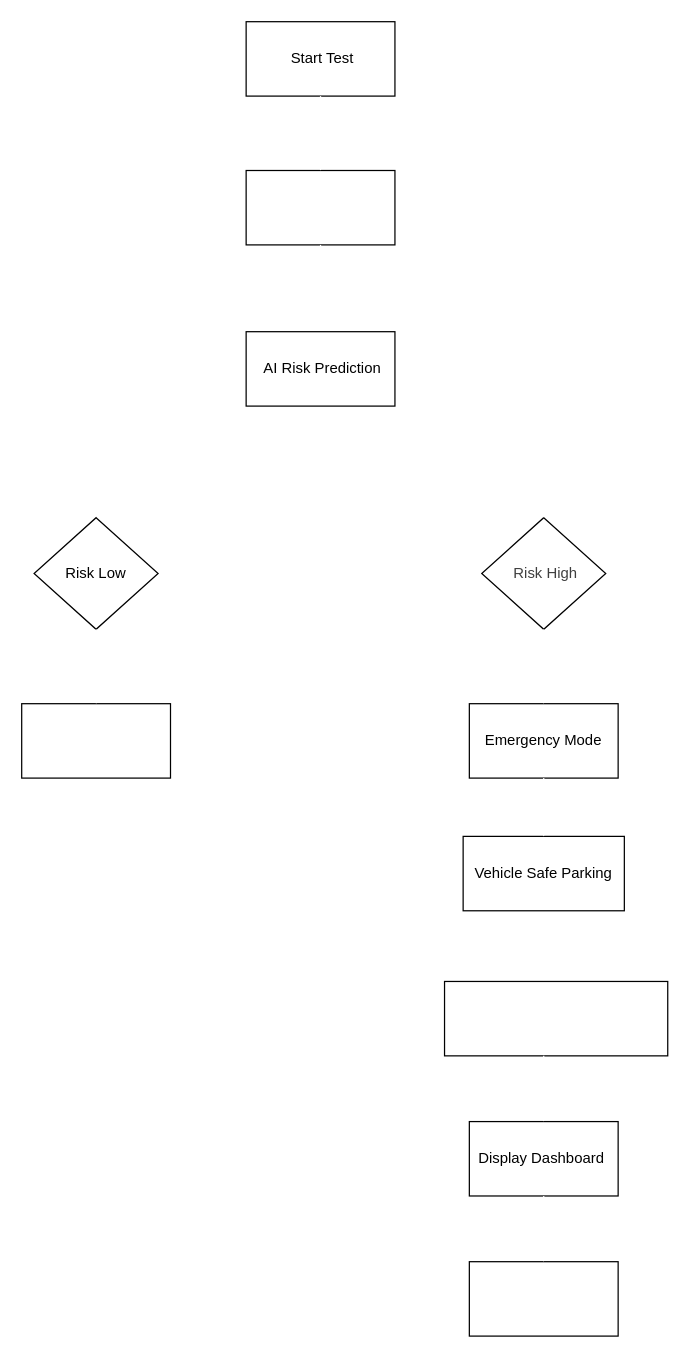
This 689x1358 diagram has some shape labels left out. The centre of each missing label's shape, as x and y in pixels:
"Collect Sensor Data" belongs at (x=320, y=207).
"Normal Drive" belongs at (x=95, y=740).
"Send GPS & Emergency Alert" belongs at (x=555, y=1018).
"Test Passed" belongs at (x=543, y=1298).
